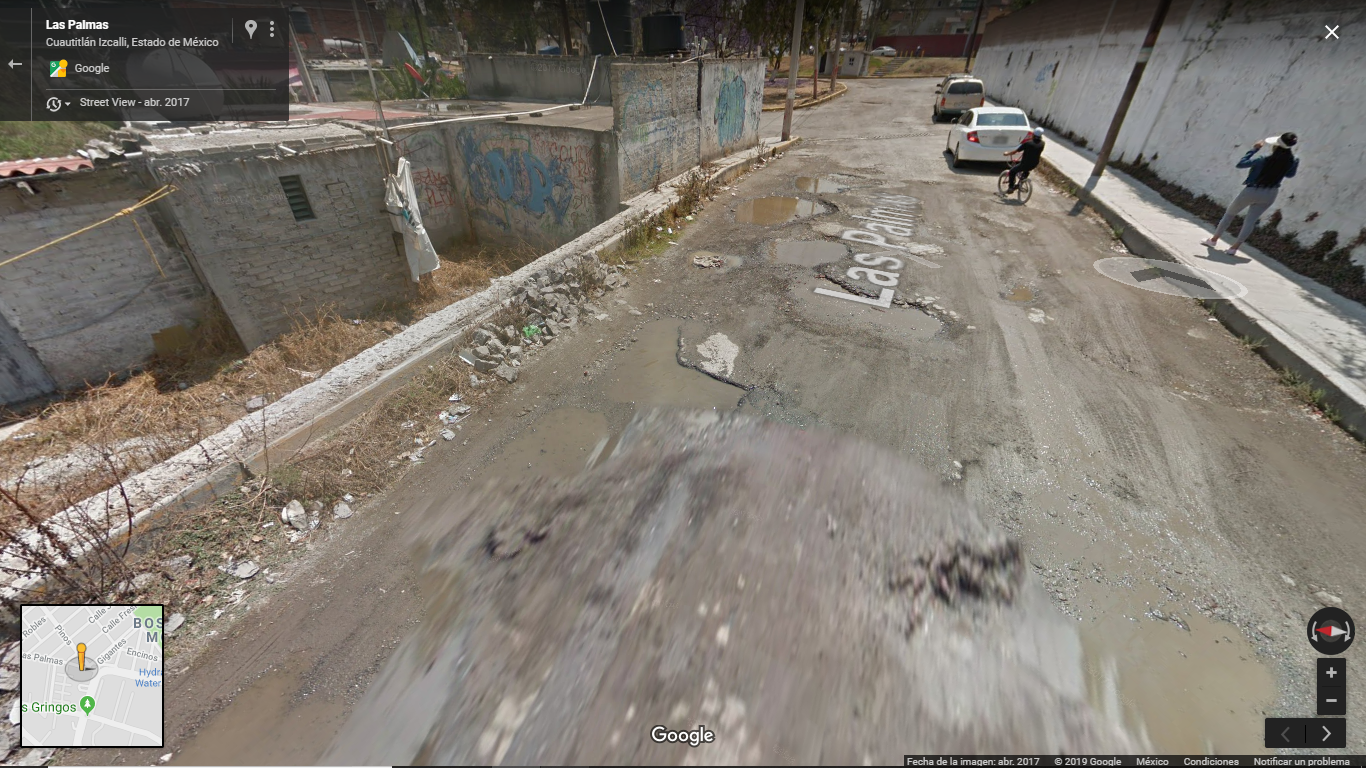pothole: (578, 307, 750, 436), (739, 185, 841, 228), (759, 233, 849, 271)
